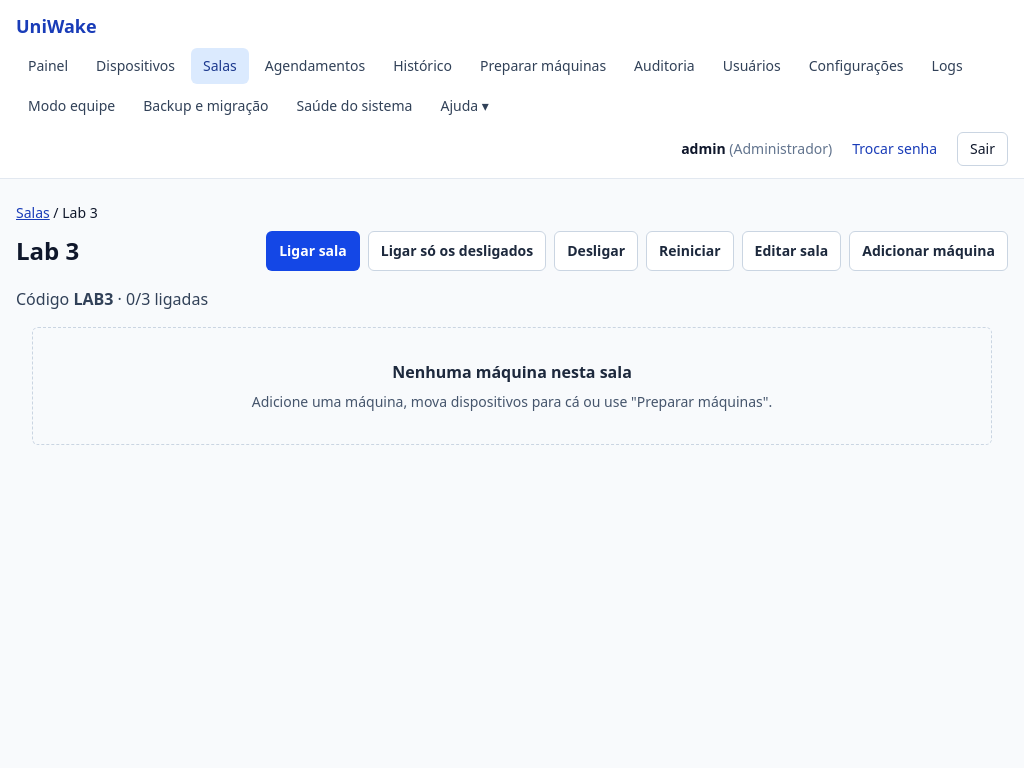
wake flow (FR-003.3, FR-009) › if the count changed between preview and start, the new count is shown for confirmation
The image size is (1024, 768).
Click the button "Ligar sala": [313, 251] box [266,231,360,271]
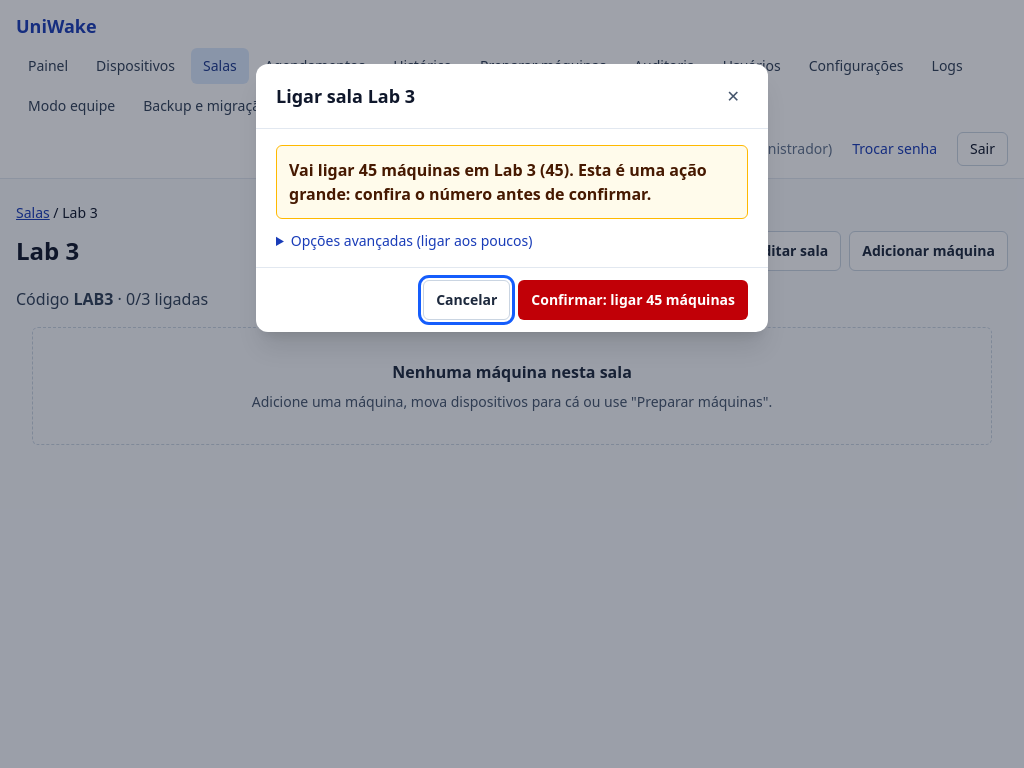
Click the button "Confirmar: ligar 45 máquinas": [633, 300] box [518,280,748,320]
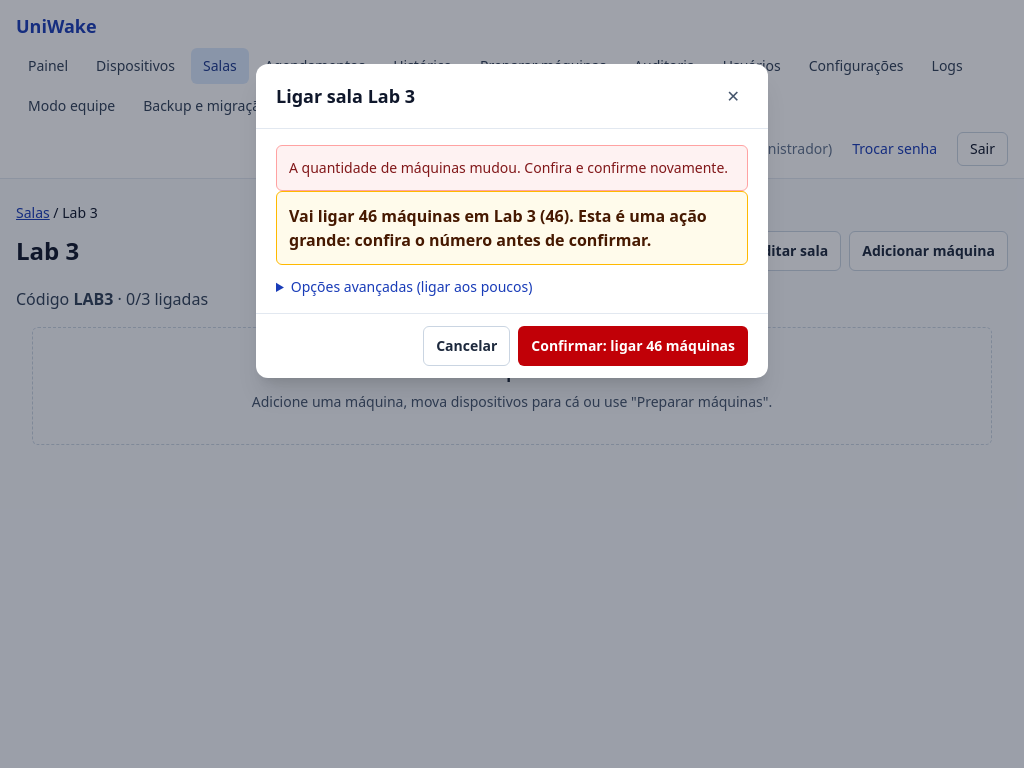
Expected: the text "A quantidade de máquinas mudou. Confira e confirme novamente." is shown, [276,145,748,191]
Expected: the button "Confirmar: ligar 46 máquinas" is shown, [518,326,748,366]
